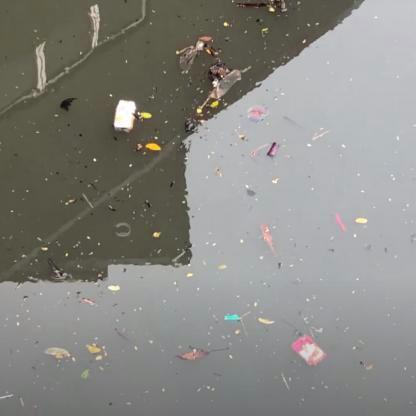Trash: (290, 331, 329, 370), (108, 96, 138, 136)
